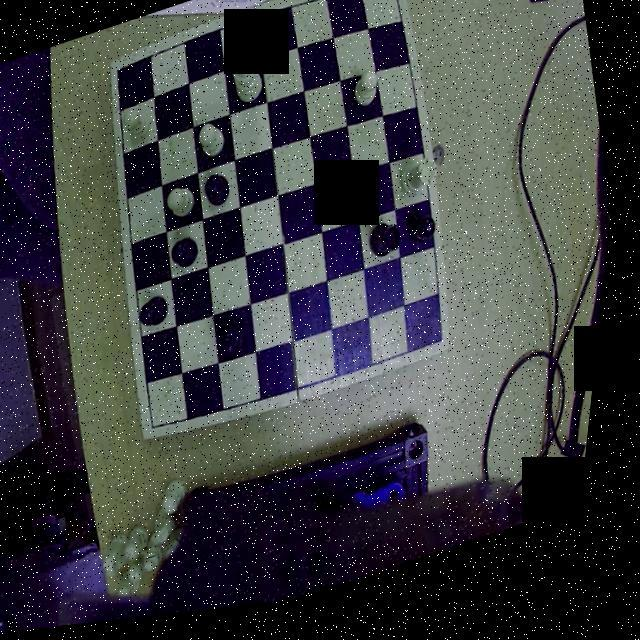chess-table-corners: (431, 334, 460, 364), (109, 59, 132, 92), (152, 417, 179, 445), (378, 0, 402, 4)
